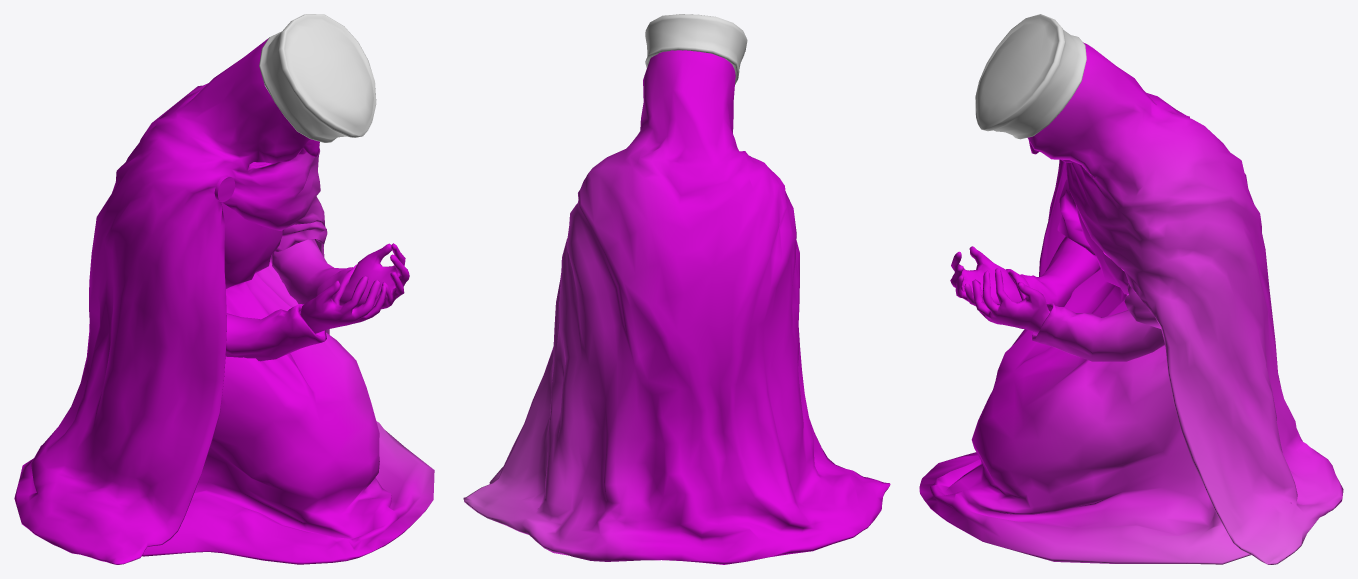
The model's file is aeg777_201.fbx.
3 views of the same model, side by side, from view 1: azimuth 30°, elevation 25°; view 2: azimuth 150°, elevation 25°; view 3: azimuth 270°, elevation 25° (orthographic). The views are drawn at different scales.
Parts seen in each view (by area): view 1: aeg777_201_i_0_mesh_0, aeg777_201_i_0_mesh_1; view 2: aeg777_201_i_0_mesh_0, aeg777_201_i_0_mesh_1; view 3: aeg777_201_i_0_mesh_0, aeg777_201_i_0_mesh_1.
Boxes of the visible parts, x1,y1,x2,y2 form: aeg777_201_i_0_mesh_0: (14, 38, 434, 564); aeg777_201_i_0_mesh_1: (259, 14, 376, 142); aeg777_201_i_0_mesh_0: (463, 50, 890, 564); aeg777_201_i_0_mesh_1: (645, 14, 747, 84); aeg777_201_i_0_mesh_0: (919, 42, 1343, 564); aeg777_201_i_0_mesh_1: (975, 14, 1086, 139).
Size of the model in its own units: 1.17 by 1.48 by 1.19.
